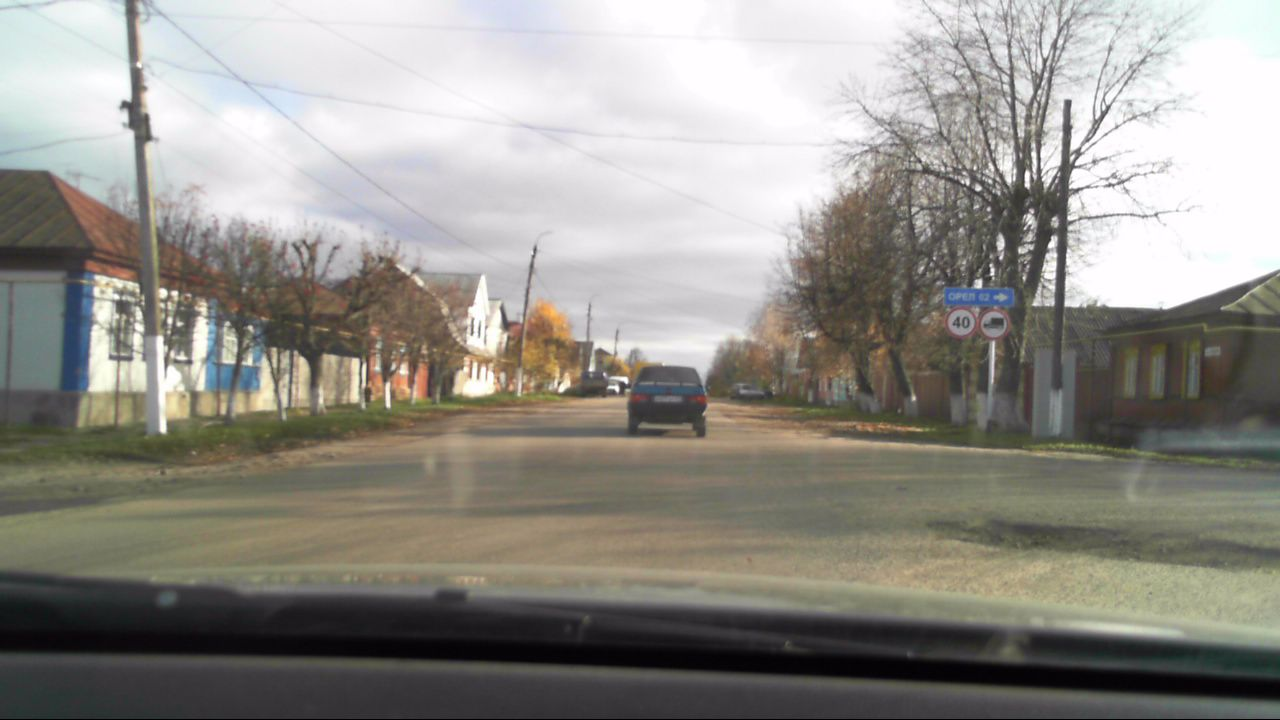speed_warning_40: (945, 307, 976, 339)
